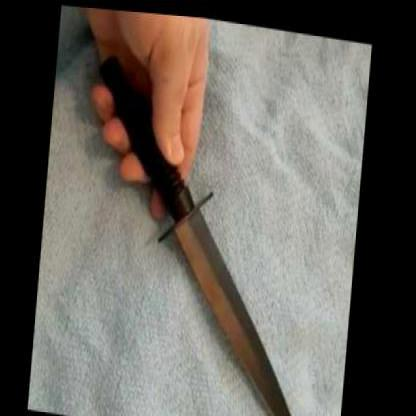knife: (84, 96, 348, 415)
